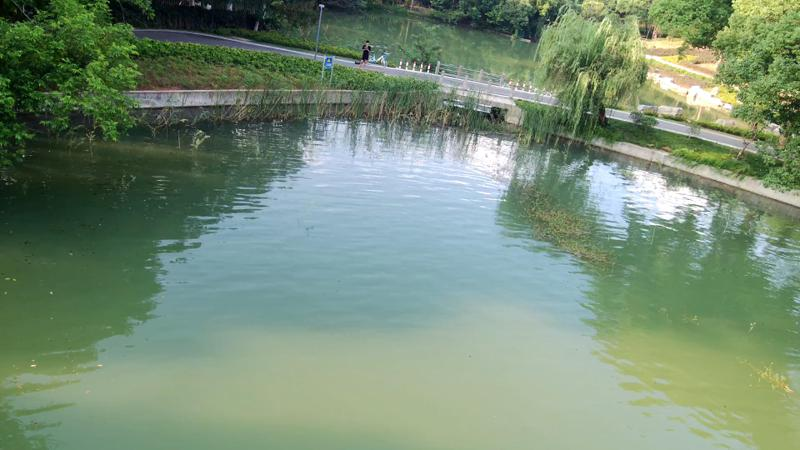passerby: (358, 39, 373, 71)
